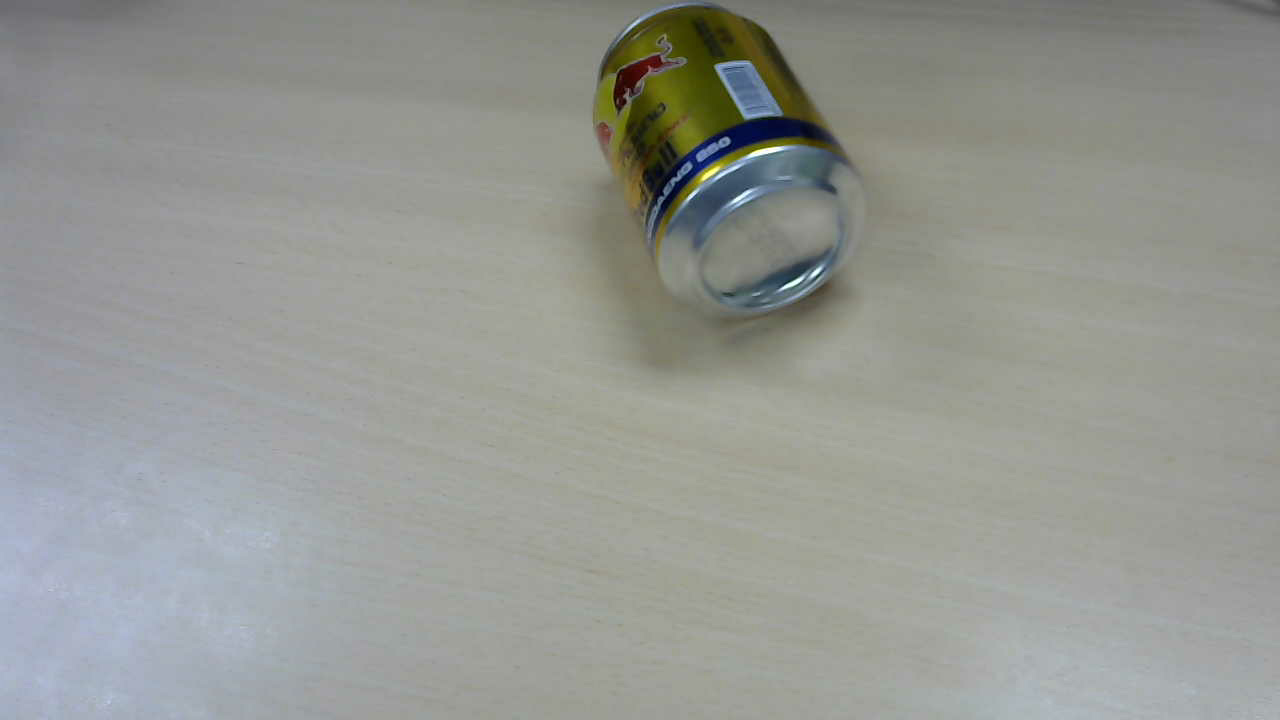Red_Bull: (595, 5, 881, 328)
